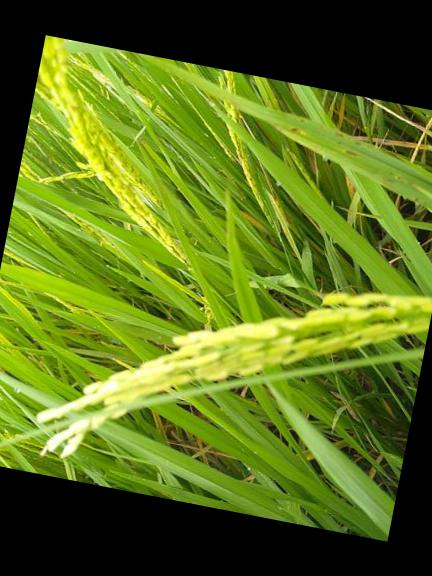Leaf Streak: (286, 127, 378, 167)
